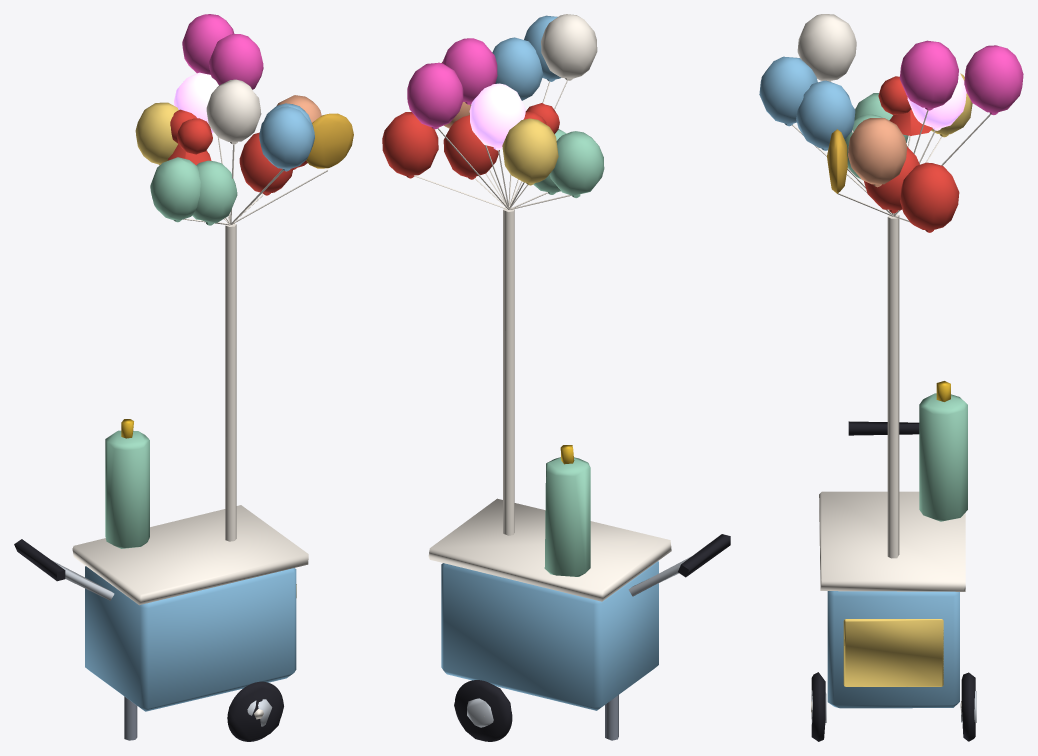
The model's file is balloon_stand.glb.
The picture shows the model from 3 angles, left to right: view 1: azimuth 30°, elevation 25°; view 2: azimuth 150°, elevation 25°; view 3: azimuth 270°, elevation 25°; orthographic projection. The views are drawn at different scales.
Visible parts, largest first — view 1: balloon_stand; view 2: balloon_stand; view 3: balloon_stand.
Part boxes in pixels (x1,y1,x2,y2): balloon_stand: (14, 14, 353, 741); balloon_stand: (382, 14, 730, 741); balloon_stand: (759, 14, 1023, 741).
Size of the model in its own units: 1.49 by 3.15 by 1.06.
1 material, 1 textured.
